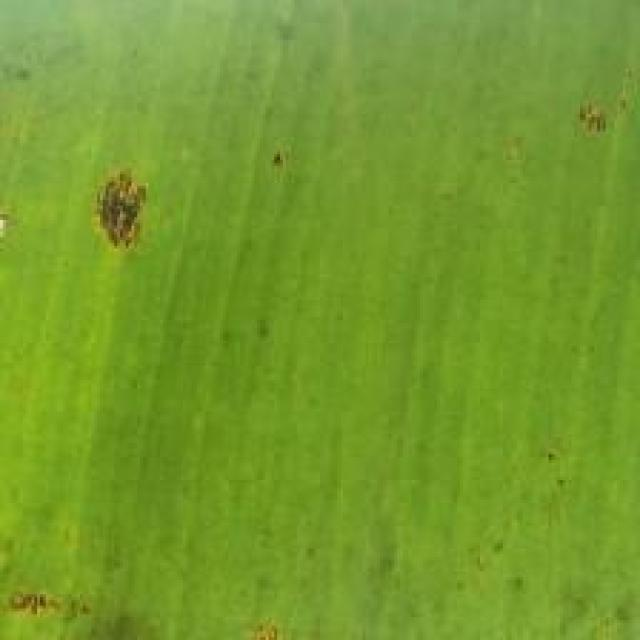Downey_mildrew: (75, 158, 178, 286), (0, 563, 120, 640), (550, 85, 626, 172), (250, 118, 302, 186), (231, 597, 303, 640)
